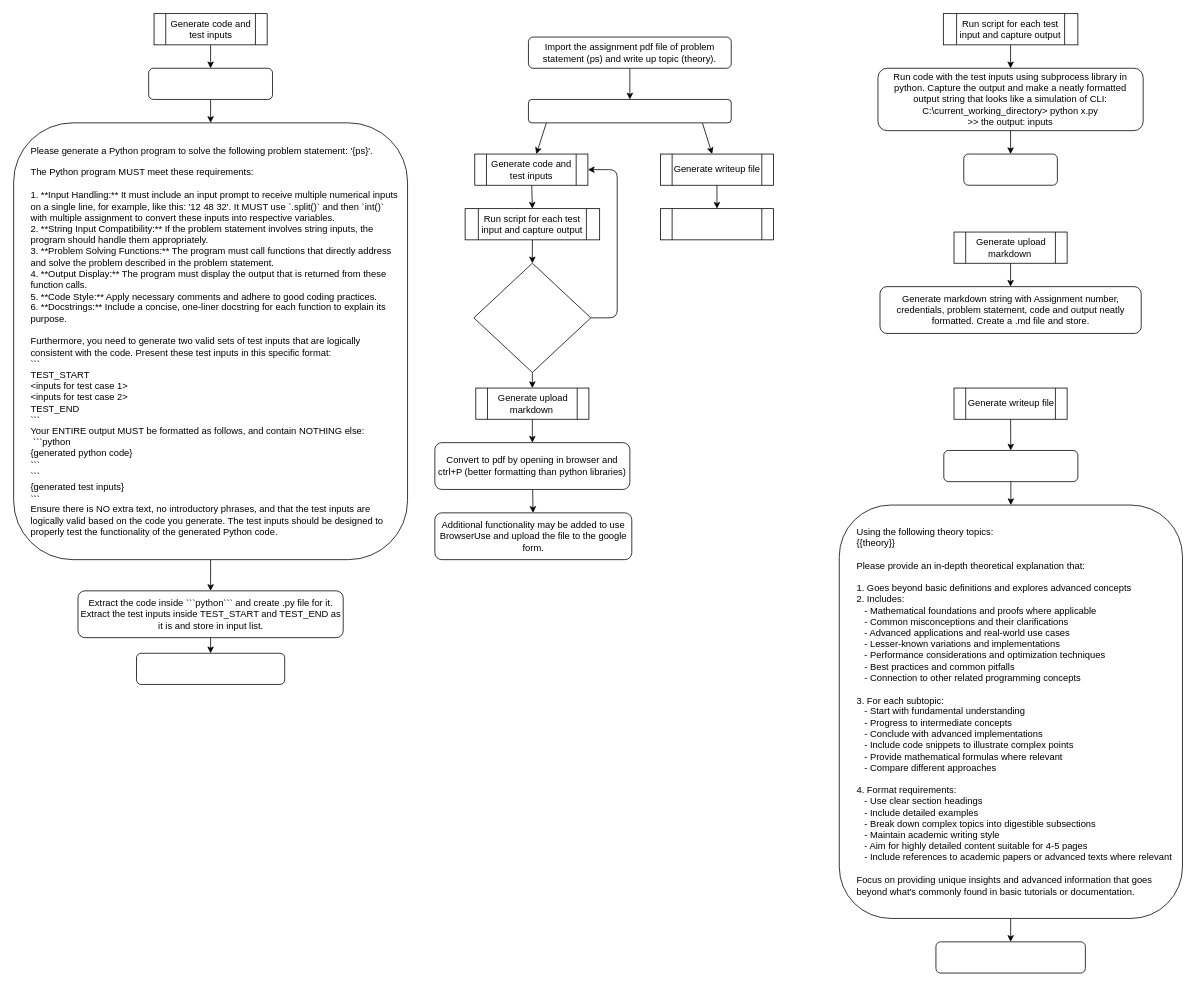
This 1197x987 diagram has some shape labels left out. The shapes that lost their labels are listed below. From the top down, each one's centre as x and y in pixels, then its label:
[210,83]: Send API request to Gemini using the following prompt
[629,111]: Extract the problem statement and theory points
[1010,169]: Return the output
[717,224]: Mail writeup using gmail API
[532,317]: If more programs exist, generate and test. Else, call markdown function
[1010,466]: Send API request to Gemini with the following prompt:
[210,668]: Return the code and test inputs
[1010,957]: Store output in a "Assignment {x} Write Up.txt"
